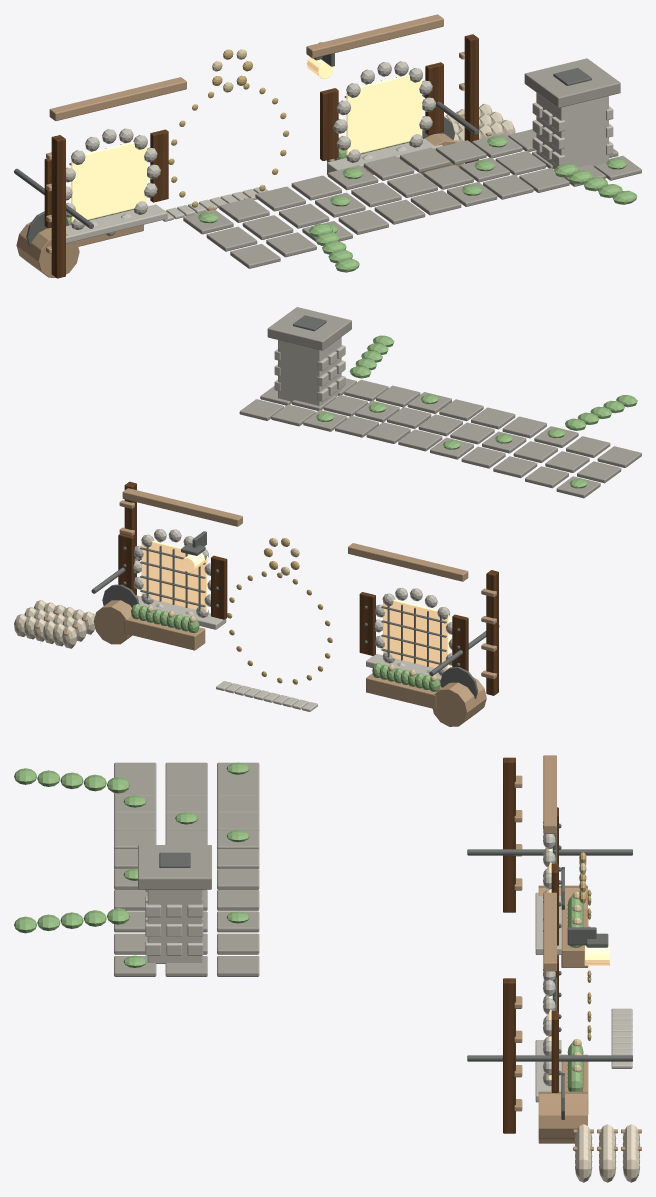
Rendered from shire_hill_cottage_craftwork.glb.
The picture shows the model from 3 angles, top to bottom: view 1: azimuth 30°, elevation 25°; view 2: azimuth 150°, elevation 25°; view 3: azimuth 270°, elevation 25°; orthographic projection. The views are drawn at different scales.
Visible parts, largest first — view 1: Art_roof_slate, Art_rounded_fieldstone, Art_amber_glass, Art_oak_grain_original, Art_weathered_wood, Art_ivy_and_herbs, Art_forged_iron, Art_handwoven_linen, Art_warm_brass; view 2: Art_roof_slate, Art_weathered_wood, Art_rounded_fieldstone, Art_amber_glass, Art_oak_grain_original, Art_forged_iron, Art_ivy_and_herbs, Art_handwoven_linen, Art_warm_brass; view 3: Art_roof_slate, Art_rounded_fieldstone, Art_weathered_wood, Art_ivy_and_herbs, Art_oak_grain_original, Art_forged_iron, Art_handwoven_linen, Art_amber_glass, Art_warm_brass.
Part boxes in pixels (<box>): Art_roof_slate: <box>183,58,641,268</box>; Art_rounded_fieldstone: <box>66,61,613,243</box>; Art_amber_glass: <box>71,57,422,222</box>; Art_oak_grain_original: <box>44,34,478,278</box>; Art_weathered_wood: <box>16,14,491,277</box>; Art_ivy_and_herbs: <box>67,136,637,272</box>; Art_forged_iron: <box>14,42,591,246</box>; Art_handwoven_linen: <box>444,103,515,141</box>; Art_warm_brass: <box>168,49,289,210</box>; Art_roof_slate: <box>239,307,641,498</box>; Art_weathered_wood: <box>35,488,496,726</box>; Art_rounded_fieldstone: <box>133,337,452,711</box>; Art_amber_glass: <box>141,541,449,669</box>; Art_oak_grain_original: <box>118,481,498,695</box>; Art_forged_iron: <box>91,315,499,698</box>; Art_ivy_and_herbs: <box>131,335,637,691</box>; Art_handwoven_linen: <box>14,600,95,648</box>; Art_warm_brass: <box>227,538,332,684</box>; Art_roof_slate: <box>114,762,259,976</box>; Art_rounded_fieldstone: <box>145,822,632,1102</box>; Art_weathered_wood: <box>514,755,641,1150</box>; Art_ivy_and_herbs: <box>14,762,583,1091</box>; Art_oak_grain_original: <box>503,757,558,1133</box>; Art_forged_iron: <box>159,823,632,1119</box>; Art_handwoven_linen: <box>575,1124,639,1182</box>; Art_amber_glass: <box>548,849,609,1079</box>; Art_warm_brass: <box>579,852,591,1040</box>.
Size of the model in its own units: 8.67 by 4.02 by 8.65.
Materials: 10 (1 with a texture image).
